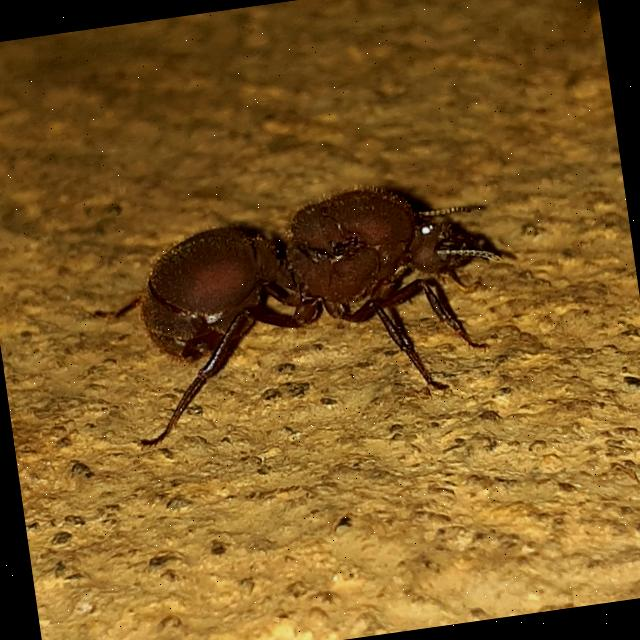Alive-Female-Dealate: (62, 165, 522, 460)
